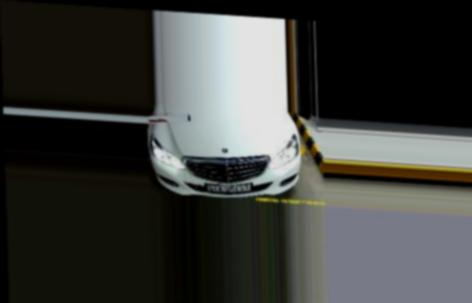License_Plate: (203, 180, 255, 195)
